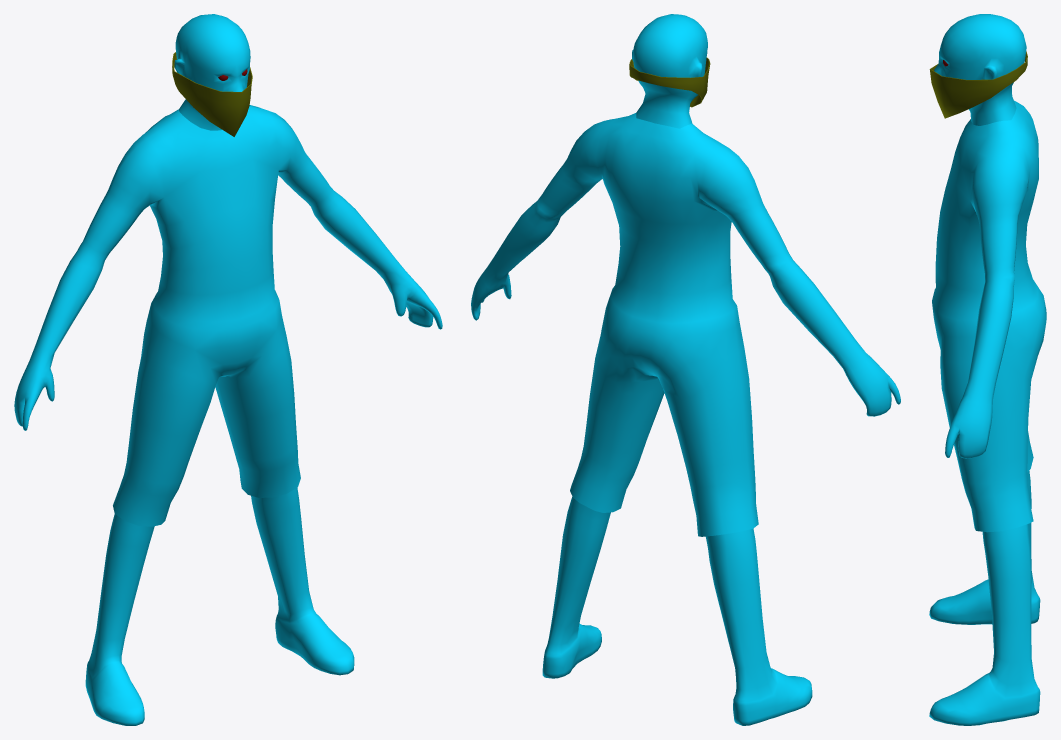
The model's file is Personaje2.fbx.
3 renders of one model, left to right at view 1: azimuth 30°, elevation 25°; view 2: azimuth 150°, elevation 25°; view 3: azimuth 270°, elevation 25°, orthographic. The views are drawn at different scales.
Visible parts, largest first — view 1: Cube; view 2: Cube; view 3: Cube.
Boxes of the visible parts, x1,y1,x2,y2 form: Cube: (14,14,442,725); Cube: (471,14,900,725); Cube: (929,14,1046,725).
Bounding box in the file's own units: 1.21 × 1.82 × 0.2972.
